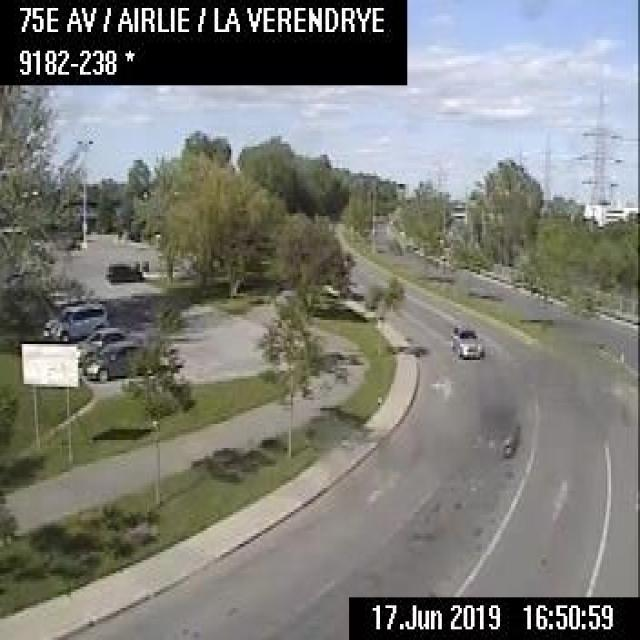vehicle: (81, 338, 145, 378), (43, 301, 107, 340), (75, 325, 140, 352), (449, 323, 482, 357), (104, 260, 142, 283)
